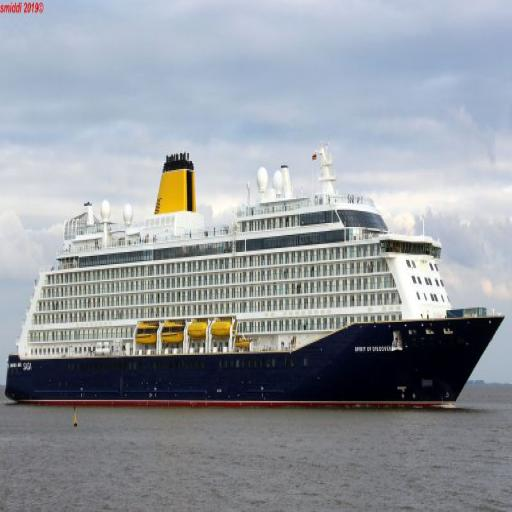cruises: (6, 137, 509, 418)
